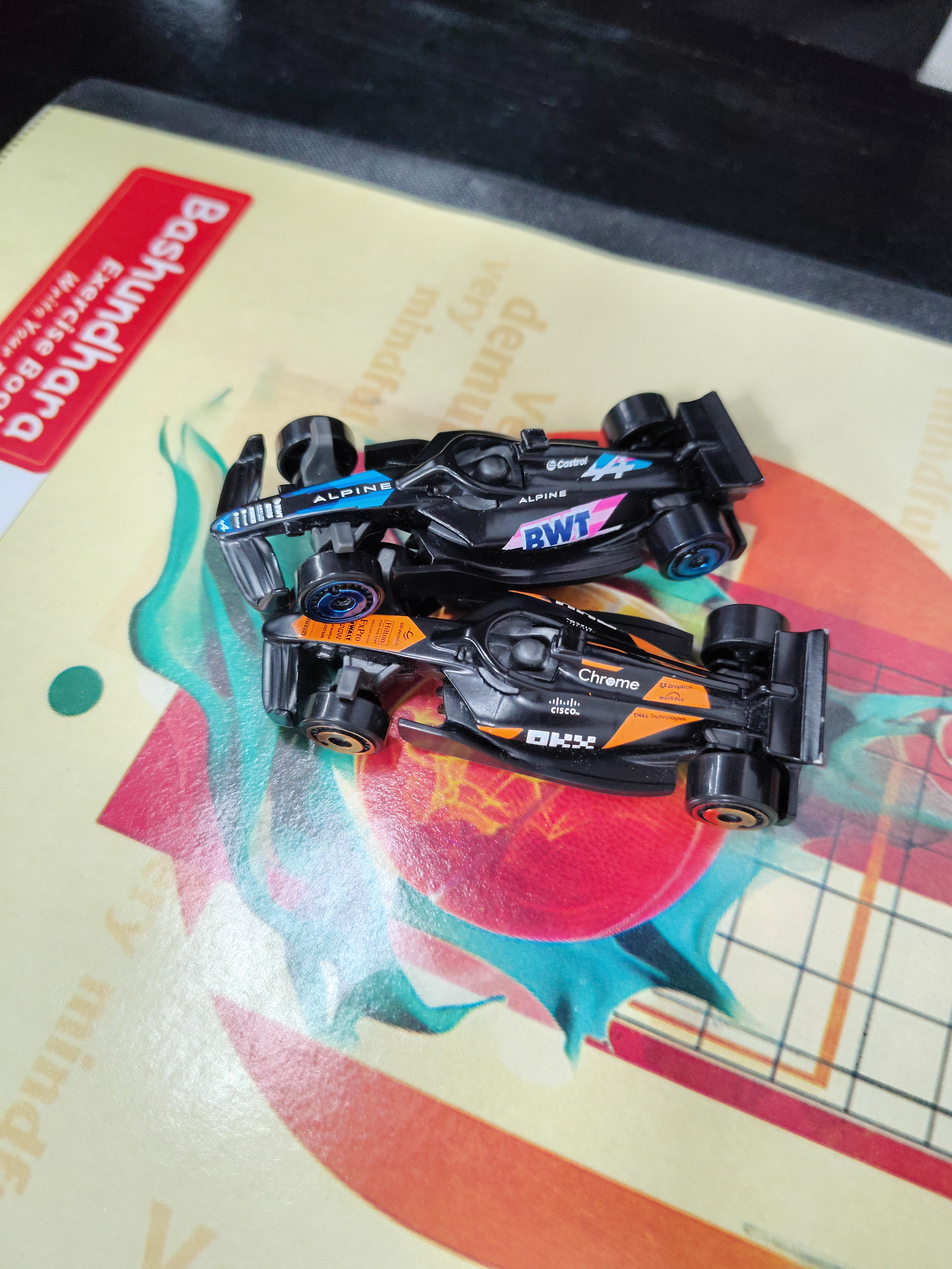Alpine A524: (172, 390, 831, 596)
McLaren MCL40: (175, 576, 883, 827)
